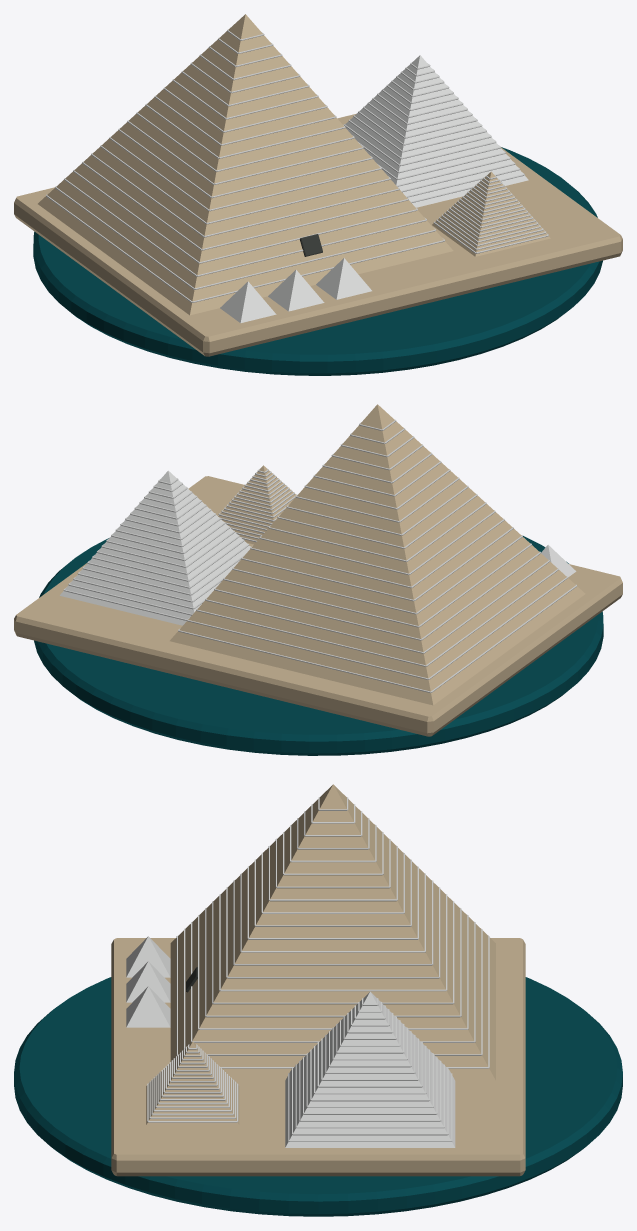
The model's file is great-pyramid-of-giza.glb.
3 renders of one model, top to bottom at view 1: azimuth 30°, elevation 25°; view 2: azimuth 150°, elevation 25°; view 3: azimuth 270°, elevation 25°, orthographic. The views are drawn at different scales.
Parts seen in each view (by area): view 1: body, pedestal; view 2: body, pedestal; view 3: body, pedestal.
Part boxes in pixels (<box>): body: <box>14,14,622,356</box>; pedestal: <box>33,147,602,375</box>; body: <box>14,404,622,736</box>; pedestal: <box>34,536,603,755</box>; body: <box>111,784,525,1176</box>; pedestal: <box>14,977,622,1216</box>.
Size of the model in its own units: 4.4 by 2.17 by 4.4.
